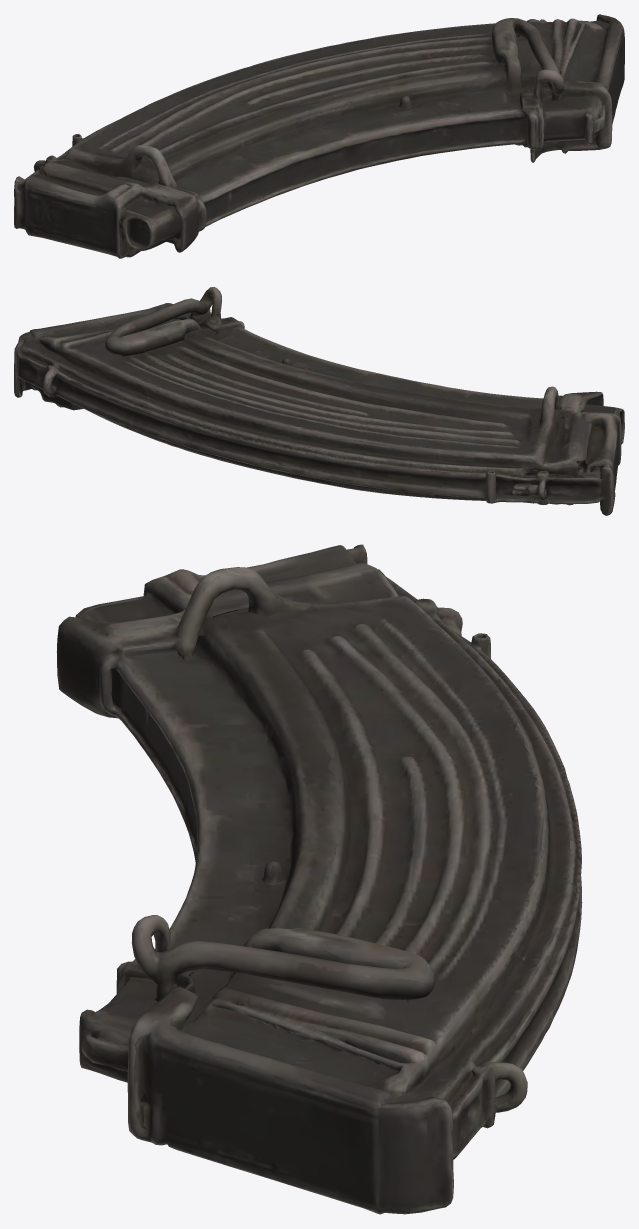
The model's file is magazine2.glb.
The picture shows the model from 3 angles, top to bottom: view 1: azimuth 30°, elevation 25°; view 2: azimuth 150°, elevation 25°; view 3: azimuth 270°, elevation 25°; orthographic projection. The views are drawn at different scales.
Visible parts, largest first — view 1: geometry_0; view 2: geometry_0; view 3: geometry_0.
Part boxes in pixels (box(x1,y1,x2,y2)): geometry_0: box(14, 14, 624, 258); geometry_0: box(14, 287, 624, 515); geometry_0: box(56, 544, 582, 1214).
Bounding box in the file's own units: 0.9971 × 0.1495 × 0.3901.
1 material, 1 textured.
